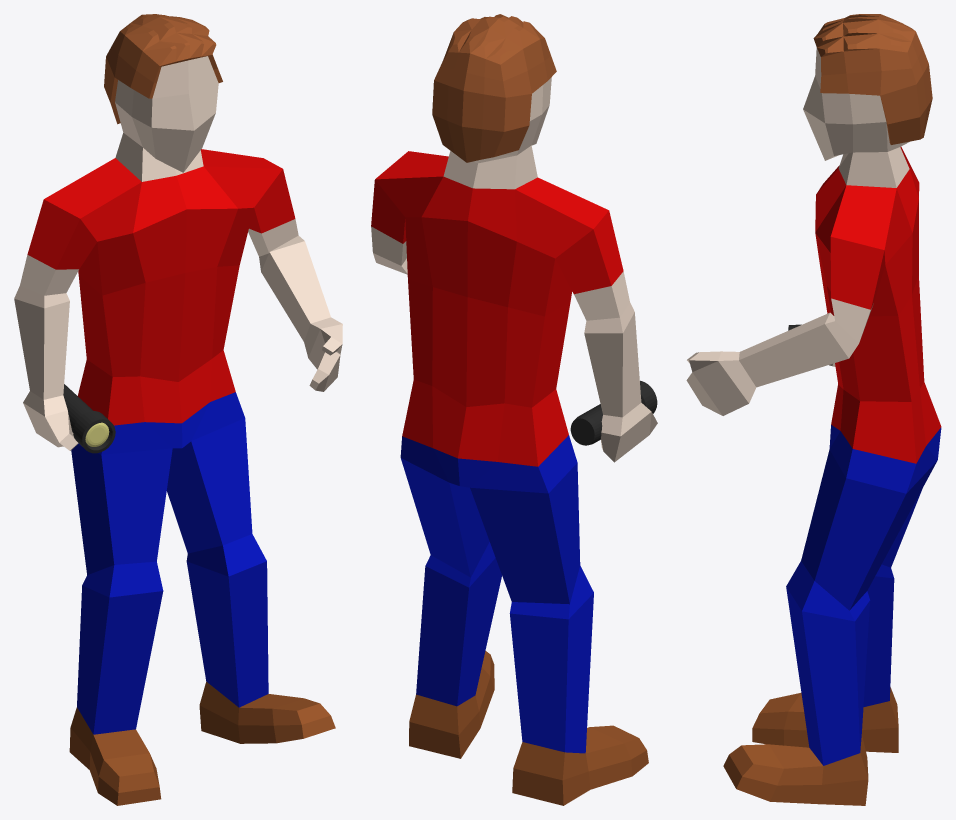
Rendered from Human_grabbing_11.fbx.
3 views of the same model, side by side, from view 1: azimuth 30°, elevation 25°; view 2: azimuth 150°, elevation 25°; view 3: azimuth 270°, elevation 25° (orthographic). The views are drawn at different scales.
Parts seen in each view (by area): view 1: Person.003, Cylinder.002; view 2: Person.003, Cylinder.002; view 3: Person.003.
Boxes of the visible parts, <box> form: Person.003: <box>14,14,342,805</box>; Cylinder.002: <box>63,384,115,453</box>; Person.003: <box>371,14,657,805</box>; Cylinder.002: <box>570,380,657,445</box>; Person.003: <box>686,14,941,805</box>.
Size of the model in its own units: 0.5903 by 1.57 by 0.4823.
